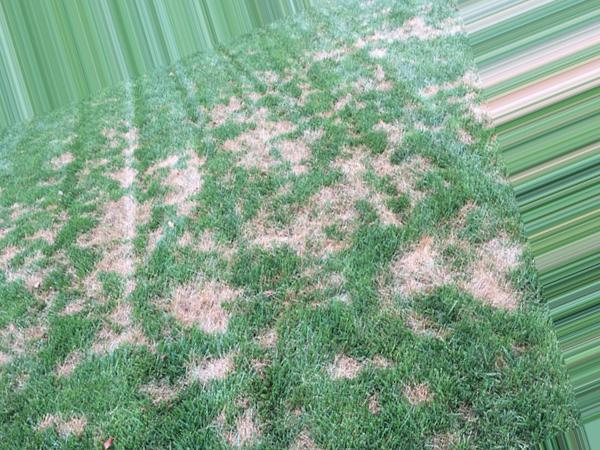patch: (419, 243, 511, 297), (230, 126, 296, 169), (96, 198, 131, 263), (157, 159, 199, 206), (177, 284, 232, 319)
